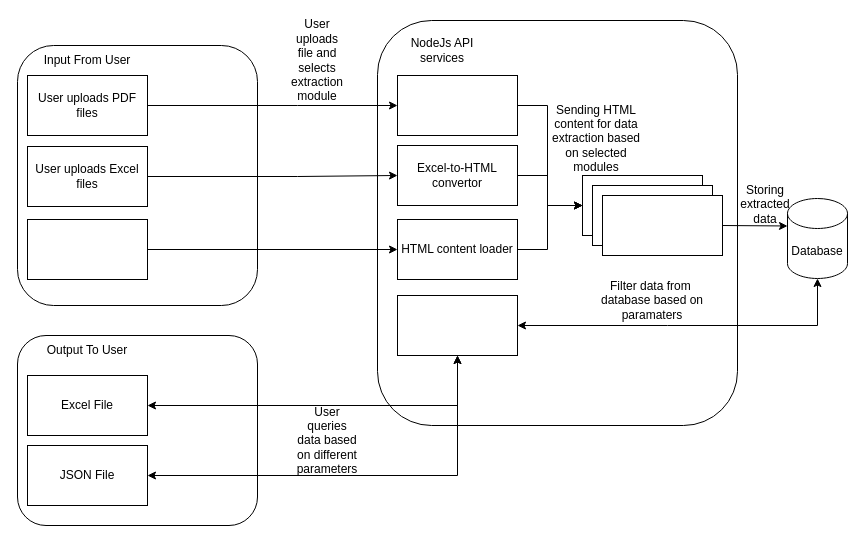
This 865x543 diagram has some shape labels left out. The shapes that lost their labels are listed below. From the top down, each one's box as (x1, y1, x2, y2) in pixels, then its label:
(396, 74, 518, 136): PDF-to-HTML convertor
(602, 194, 722, 256): Web Scraping Functions
(26, 218, 148, 280): User provides web link
(396, 294, 518, 356): Query Service based on geolocation, time or other parameters
